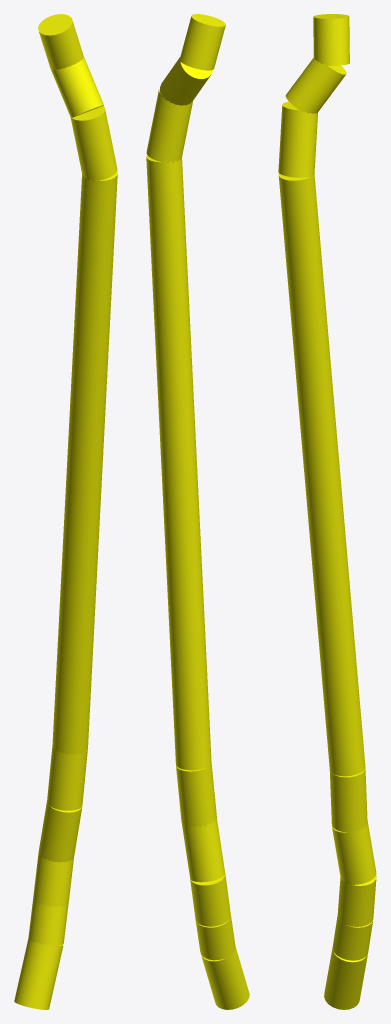
The picture shows the model from 3 angles, left to right: view 1: azimuth 30°, elevation 25°; view 2: azimuth 210°, elevation 25°; view 3: azimuth 270°, elevation 25°; orthographic projection.
Visible parts, largest first — view 1: Cylinder(Clone) (×9); view 2: Cylinder(Clone) (×9); view 3: Cylinder(Clone) (×9).
Boxes of the visible parts, left/top/right/bottom form: Cylinder(Clone) (×9): left=14, top=14, right=117, bottom=1009; Cylinder(Clone) (×9): left=146, top=14, right=249, bottom=1009; Cylinder(Clone) (×9): left=278, top=14, right=376, bottom=1009.
Bounding box in the file's own units: 0.0244 × 0.3047 × 0.0271.
